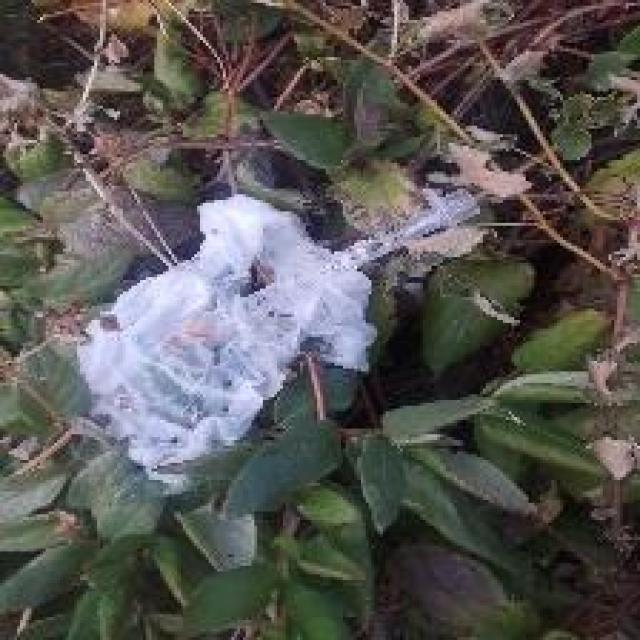syringe: (223, 184, 495, 310)
